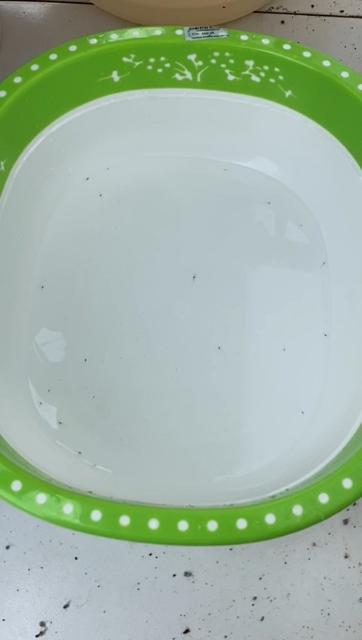benur: (222, 165, 231, 174), (105, 163, 113, 172), (91, 393, 99, 402), (98, 191, 105, 201), (85, 174, 92, 184), (92, 461, 100, 469), (76, 449, 84, 457), (300, 409, 307, 418), (39, 283, 46, 292), (322, 258, 328, 268), (191, 272, 198, 280), (216, 344, 223, 352), (266, 199, 273, 206), (323, 330, 329, 338), (39, 400, 44, 409), (58, 420, 64, 426), (83, 357, 89, 363), (299, 221, 304, 228), (46, 388, 51, 394), (282, 347, 287, 351)
